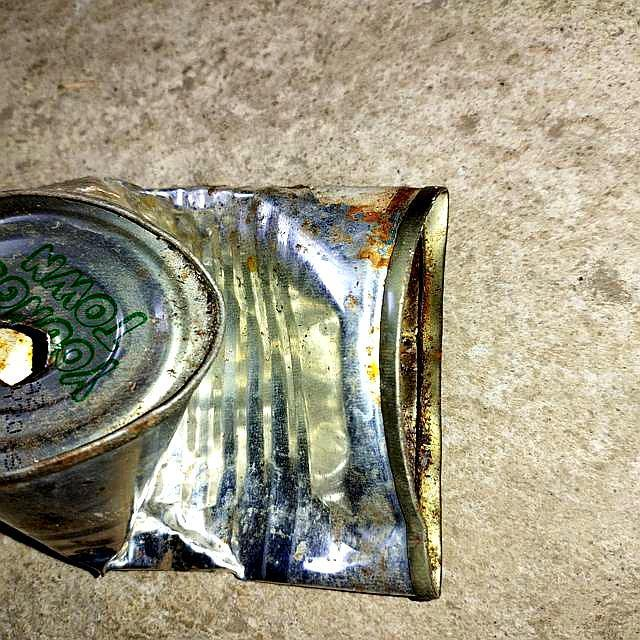Non-biodegradable: (2, 176, 451, 602)
